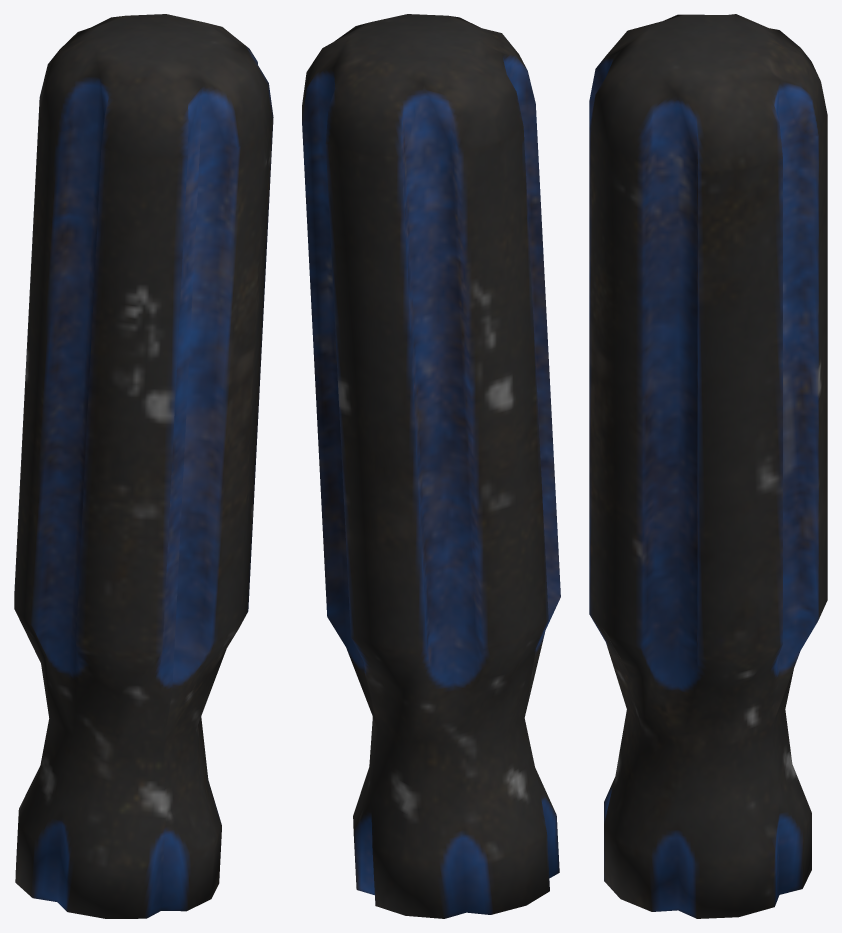
Rendered from Screwdriver_L_Handle_low.obj.
3 renders of one model, left to right at view 1: azimuth 30°, elevation 25°; view 2: azimuth 150°, elevation 25°; view 3: azimuth 270°, elevation 25°, orthographic. The views are drawn at different scales.
Bounding box in the file's own units: 0.032 × 0.1118 × 0.0282.
1 material, 1 textured.
